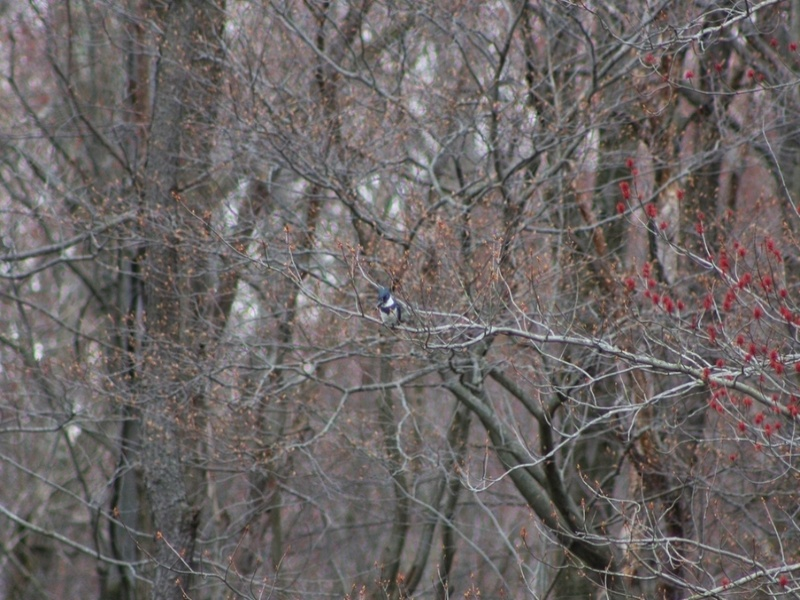kingfisher: (374, 287, 406, 333)
